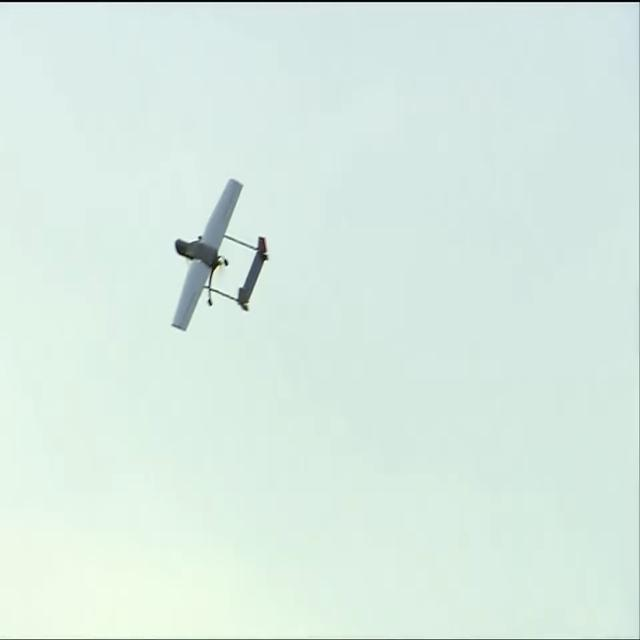iha: (202, 178, 240, 332)
